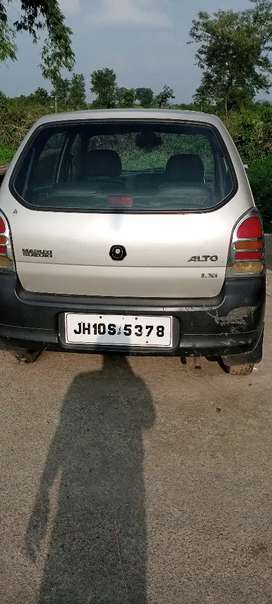JH10S5378: (65, 313, 170, 347)
